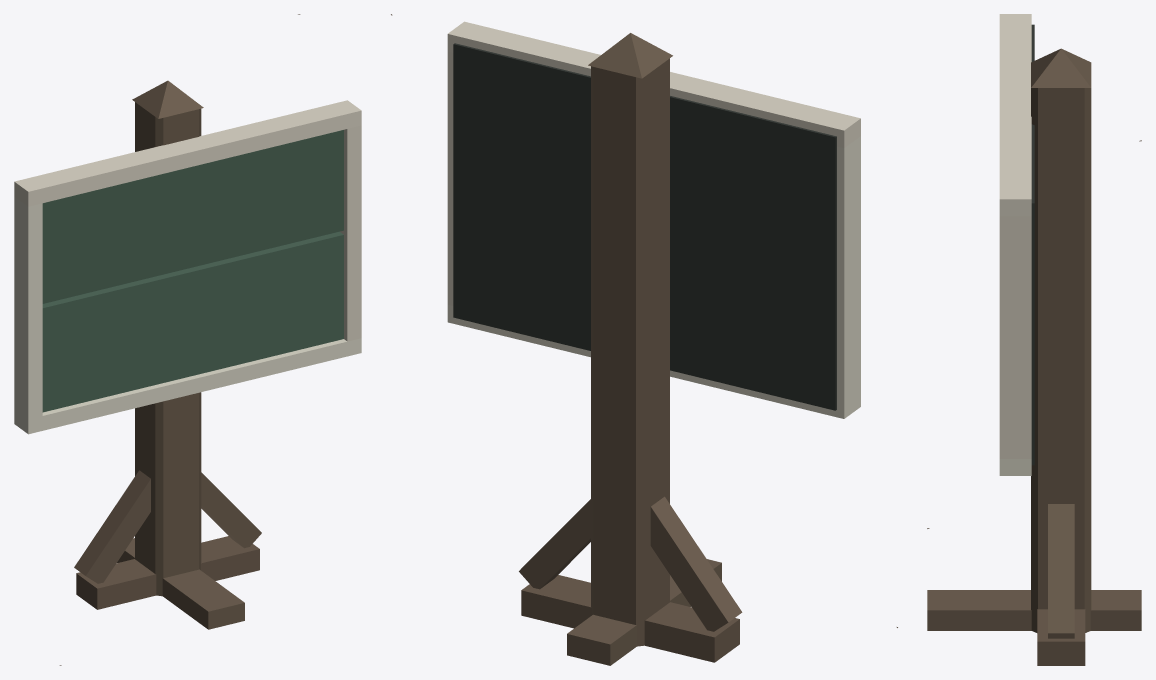
File: PriceBoard_paint.glb
The picture shows the model from 3 angles, left to right: view 1: azimuth 30°, elevation 25°; view 2: azimuth 150°, elevation 25°; view 3: azimuth 270°, elevation 25°; orthographic projection. The views are drawn at different scales.
Parts seen in each view (by area): view 1: PriceBoard_paint; view 2: PriceBoard_paint; view 3: PriceBoard_paint.
Boxes of the visible parts, x1,y1,x2,y2 form: PriceBoard_paint: (14,14,361,665); PriceBoard_paint: (391,14,897,665); PriceBoard_paint: (927,14,1141,665).
Size of the model in its own units: 3.28 by 4.72 by 1.6.
